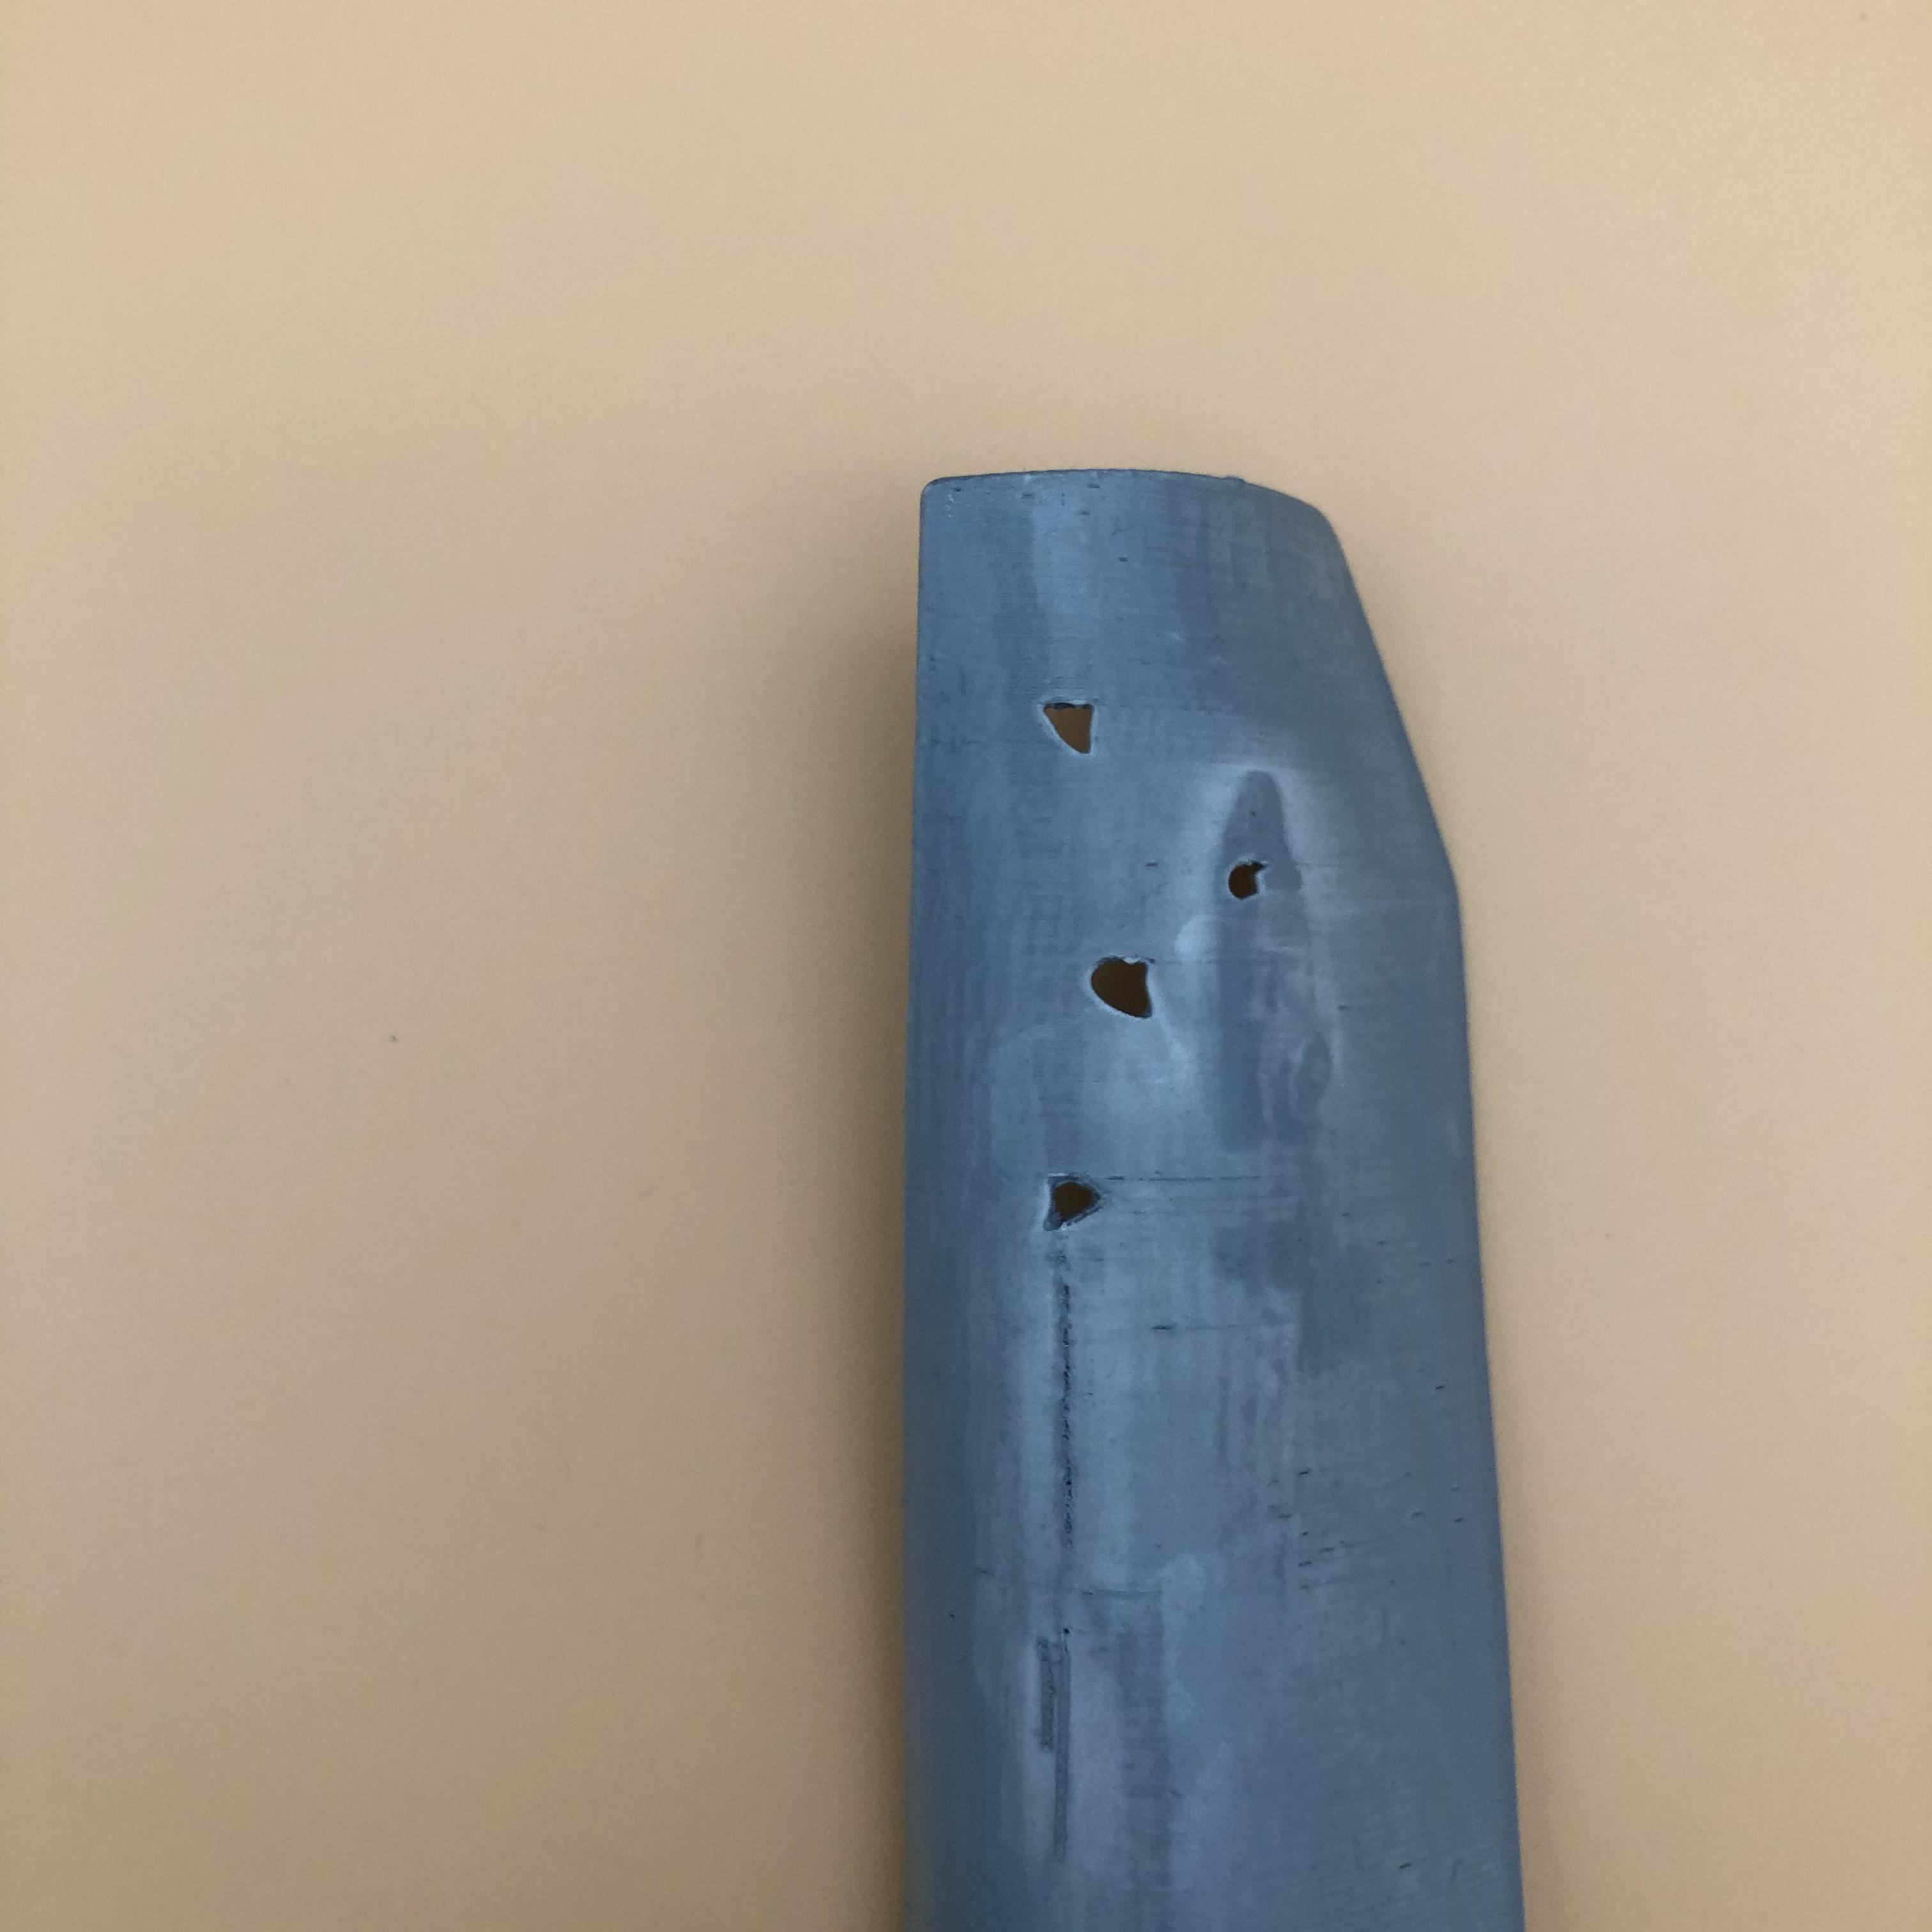breakdown: (1037, 679, 1161, 1228), (1235, 840, 1279, 908)
